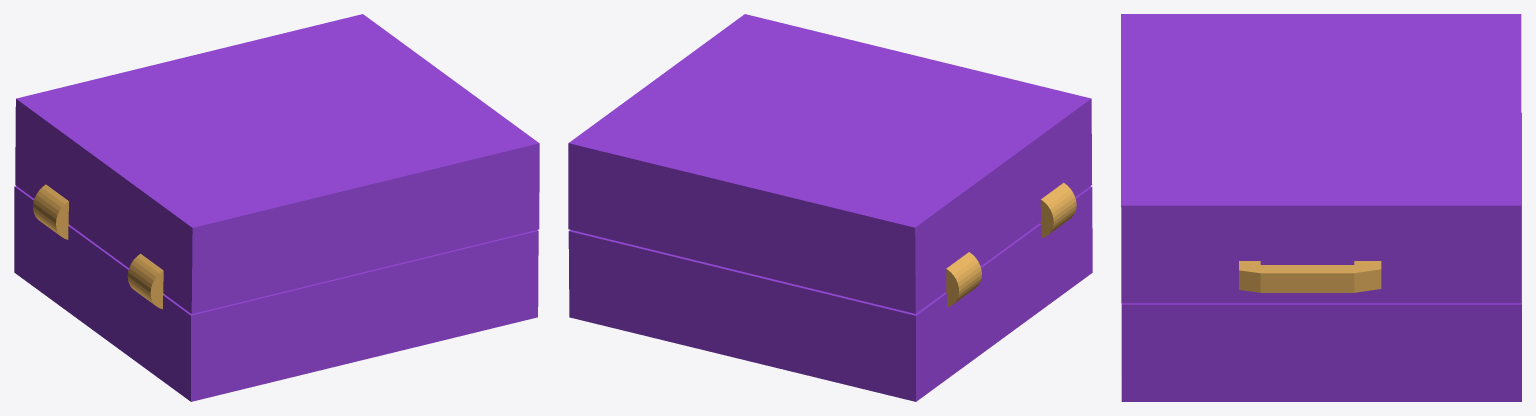
File: koffer 1.fbx
The picture shows the model from 3 angles, left to right: view 1: azimuth 30°, elevation 25°; view 2: azimuth 150°, elevation 25°; view 3: azimuth 270°, elevation 25°; orthographic projection. The views are drawn at different scales.
Parts seen in each view (by area): view 1: koffer.001, koffer; view 2: koffer.001, koffer; view 3: koffer.001, koffer.
Boxes of the visible parts, x1,y1,x2,y2 form: koffer.001: (15, 14, 539, 313); koffer: (14, 184, 538, 401); koffer.001: (568, 14, 1092, 313); koffer: (568, 182, 1092, 401); koffer.001: (1121, 14, 1521, 303); koffer: (1121, 112, 1521, 401).
Size of the model in its own units: 929 by 404 by 744.
